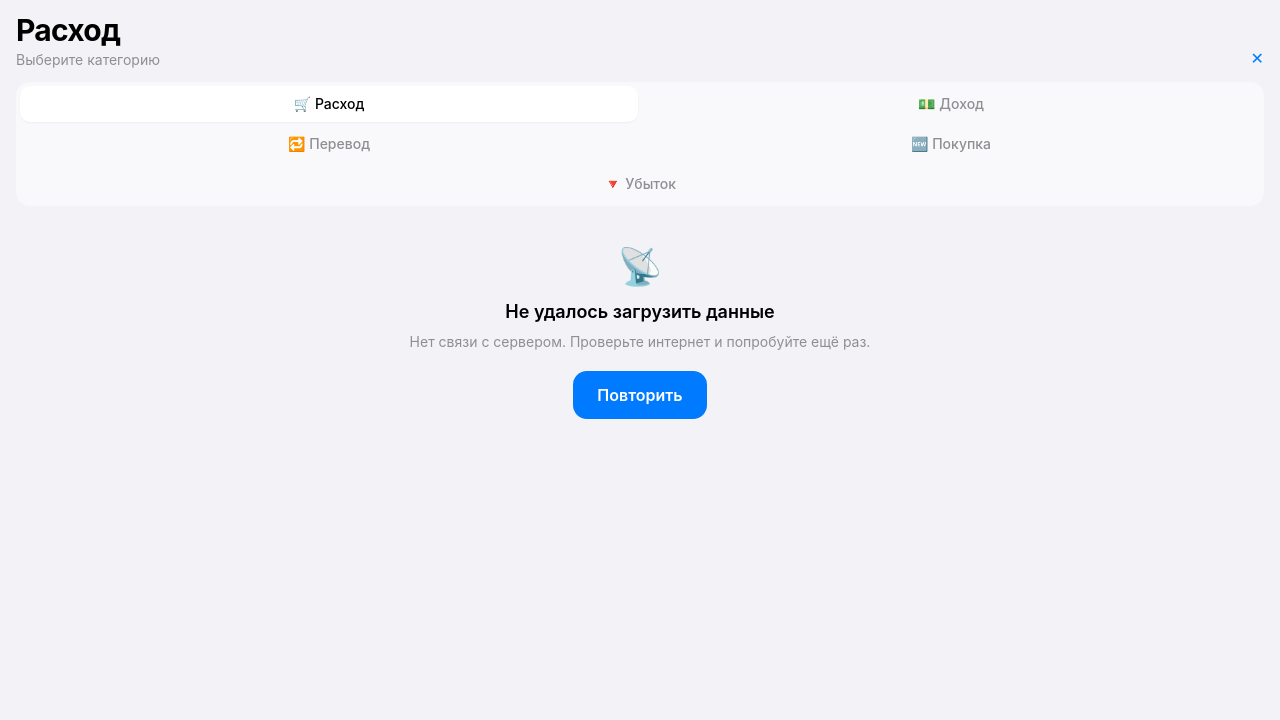
Ошибки загрузки на экранах › Добавить: справочник категорий не загрузился — заглушка вместо пустого пикера
expect the text "Не удалось загрузить данные" is shown: met, box [505,301,775,322]
Click the button "Повторить".
click(640, 395)  # box [573,371,707,419]
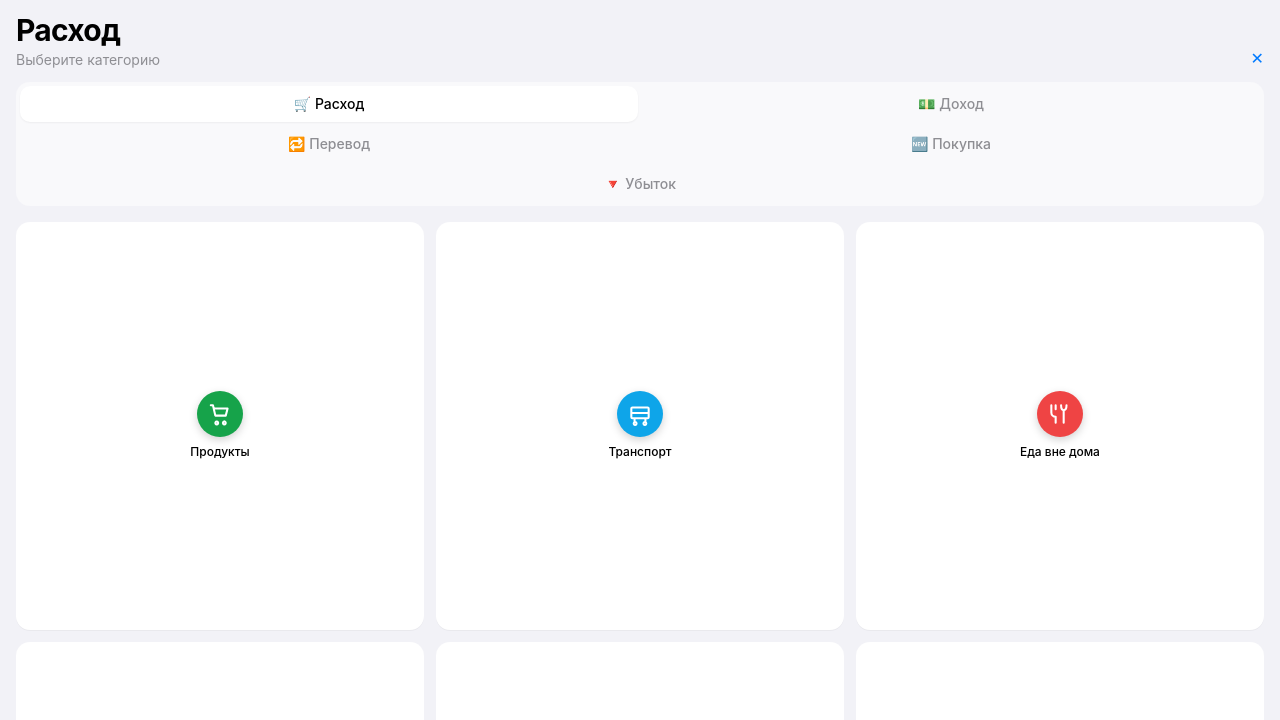
expect the button "Продукты" is shown: met, box [16,222,424,630]
